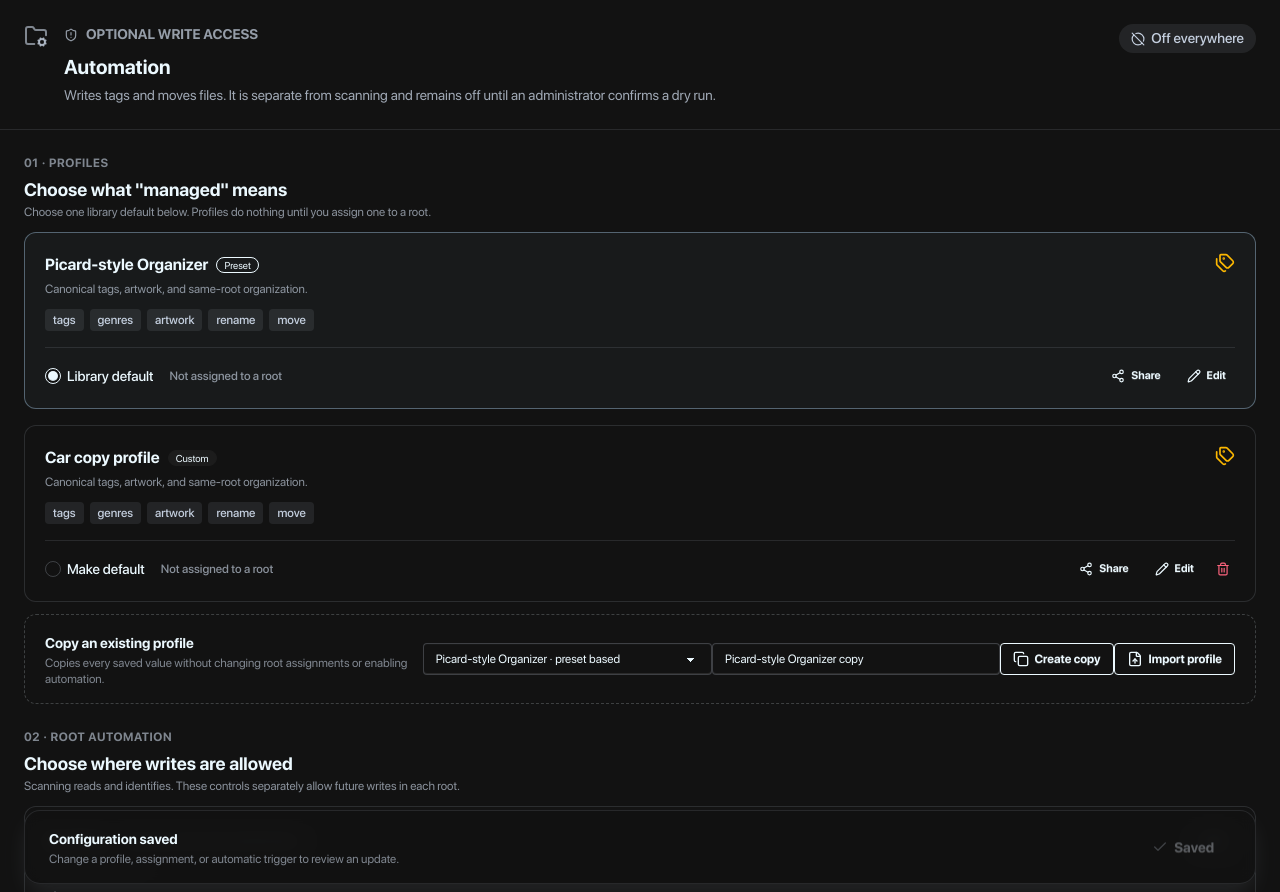
Scenario: SettingsLibraryManagement › adds a copied profile to the saved draft and opens it for editing
This screenshot has width=1280, height=892.
Select "Car copy profile · custom" in the dropdown named "Profile to copy": (567, 659) [423,643,712,675]
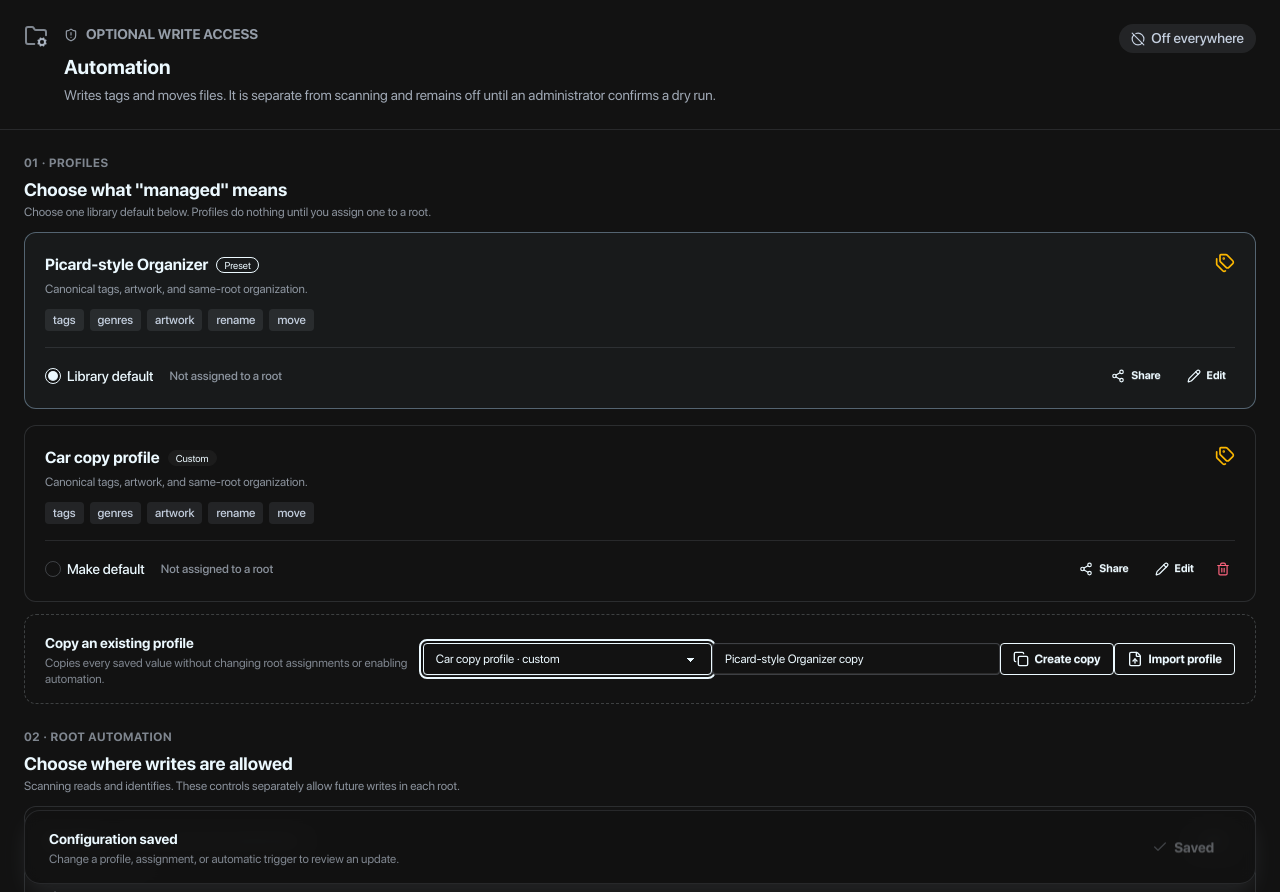
Replace the text in the field named "New profile name" with "Archive profile": (856, 659) [712,643,1000,675]
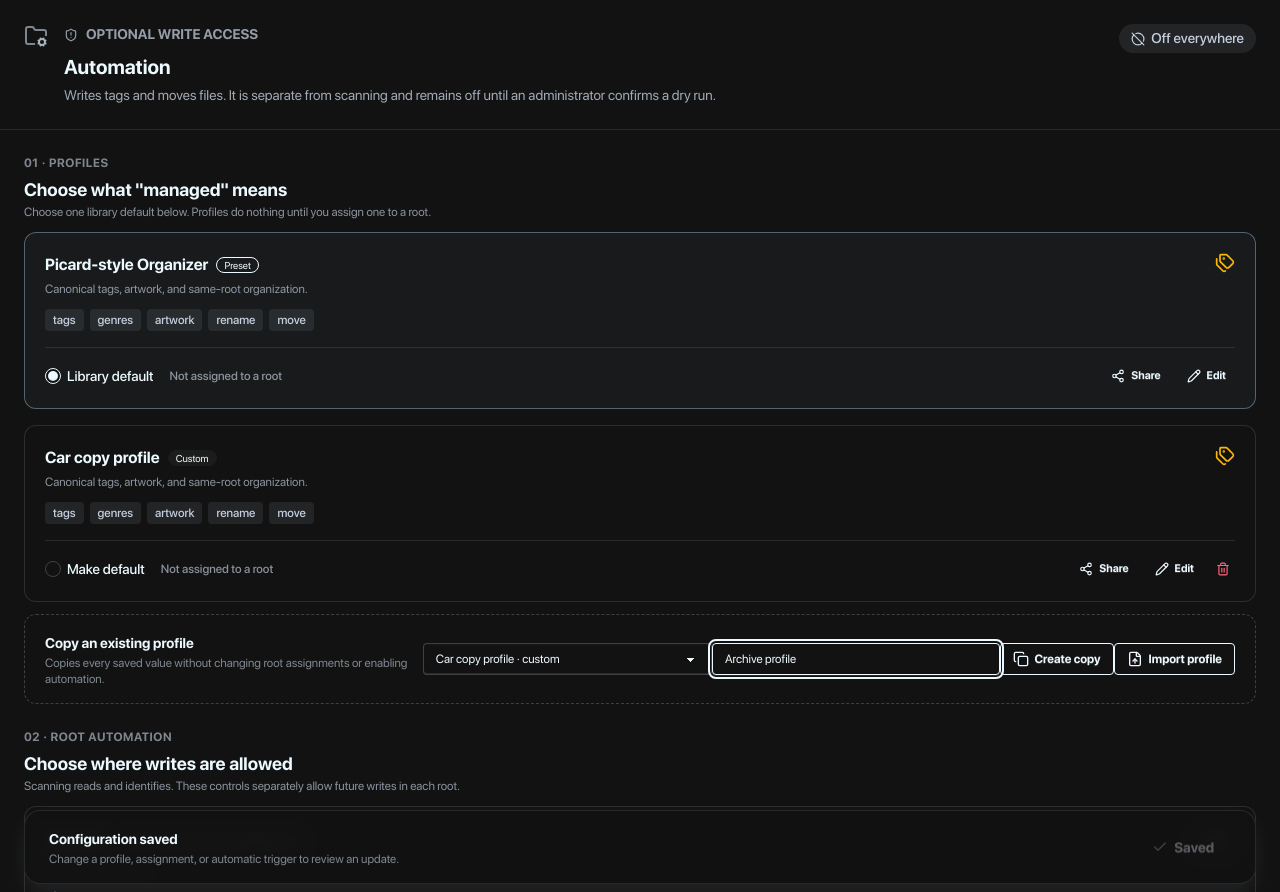
Click the button "Create copy": (1057, 659) [1000,643,1114,675]
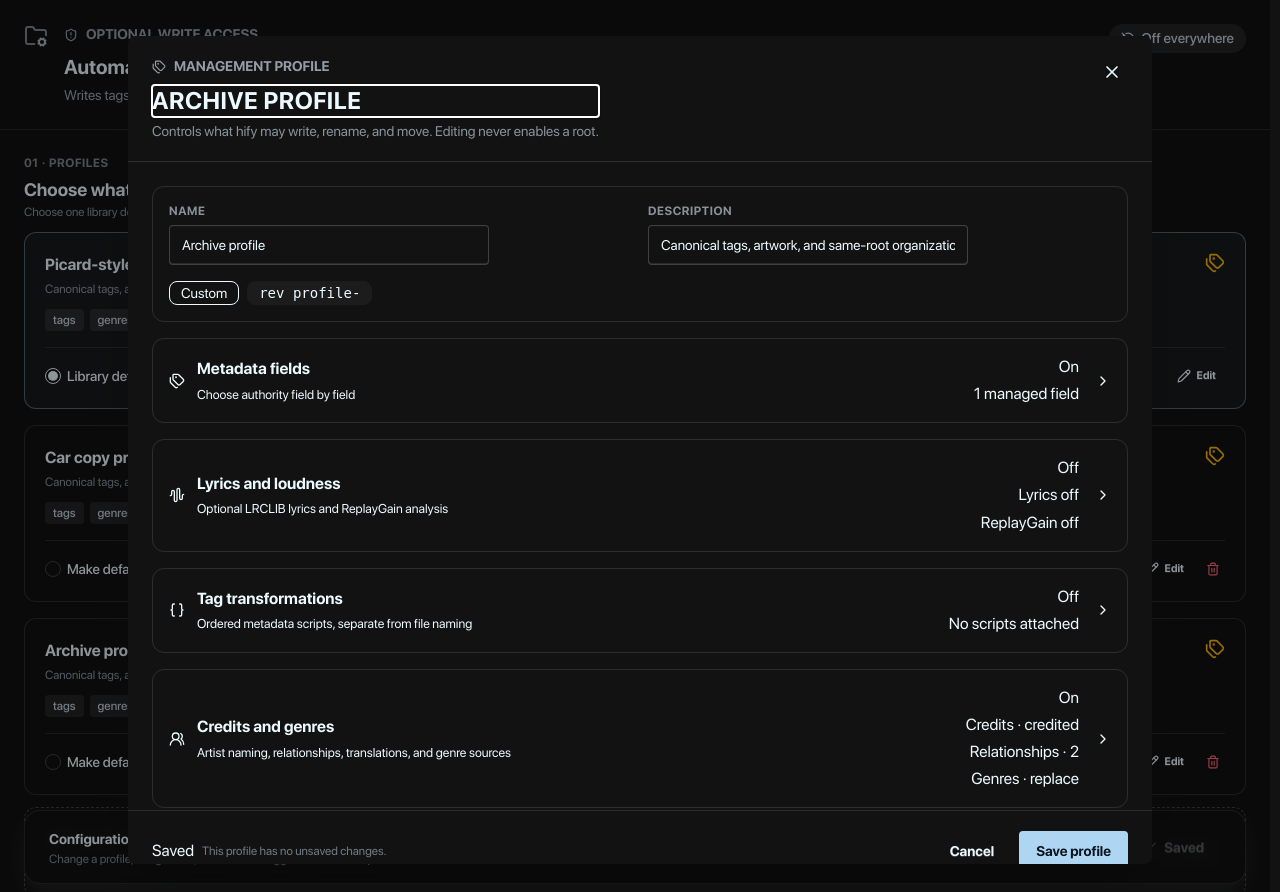
expect the text "Custom" is shown: met, box [169,281,239,305]
